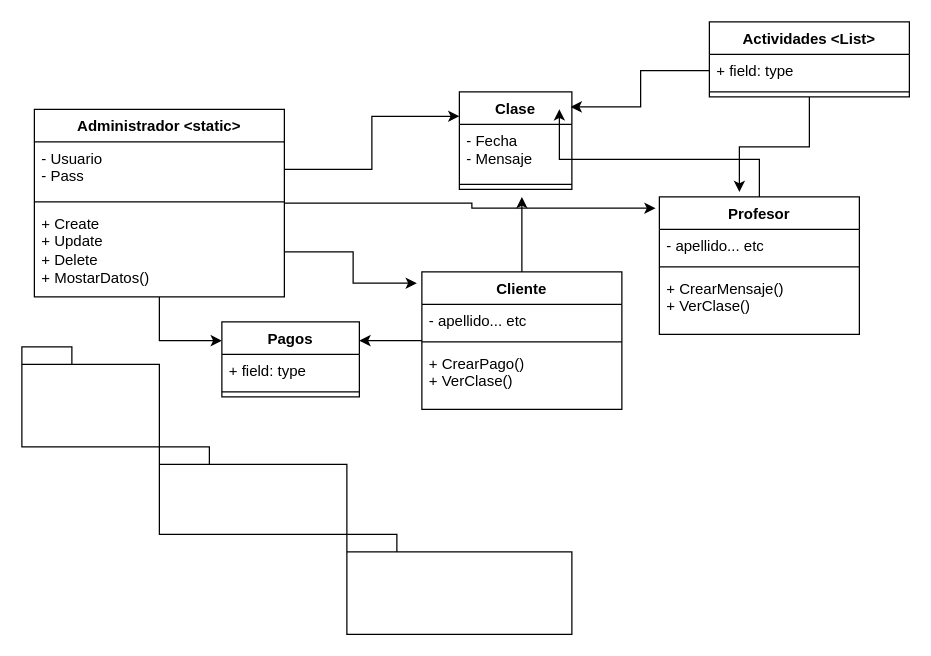
This 931x656 diagram has some shape labels left out. The shapes that lost their labels are listed below. From the top down, each one's centre as x and y in pixels, then its label:
(x=90, y=396): MODELO Archivos de class
(x=252, y=490): VISTA: Archivos de style
(x=459, y=583): CONTROLADOR: Archivo con la class con function CRUD
